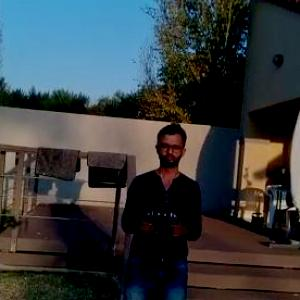follow: (112, 119, 205, 299)
